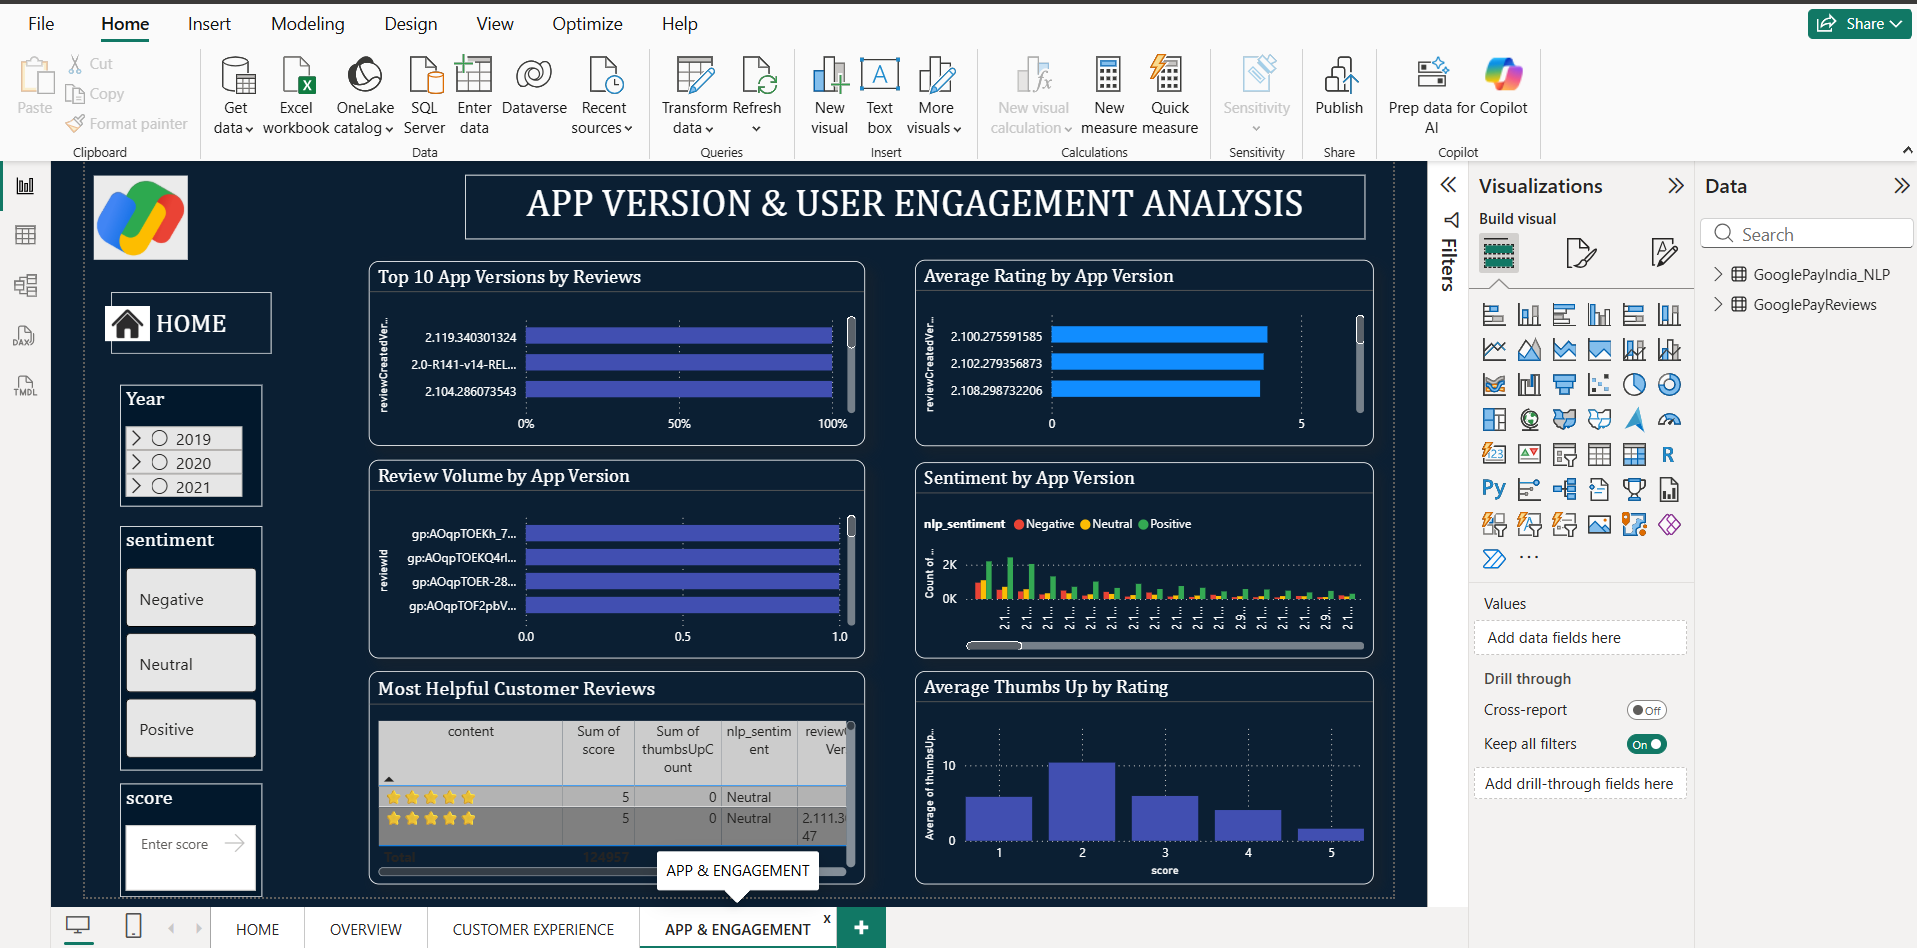

This screenshot's page, from the dashboard's own definition file:
{"tool":"powerbi","page":{"name":"APP & ENGAGEMENT","canvas":[1280,720],"ordinal":3},"visuals":[{"type":"hundredPercentStackedBarChart","title":"Top 10 App Versions by Reviews","fields":{"Y":["CountNonNull(GooglePayIndia_NLP.reviewId)"],"Category":["GooglePayIndia_NLP.reviewCreatedVersion"]},"box":[277.6,97.8,485.5,181],"z":0},{"type":"barChart","title":"Average Rating by App Version","fields":{"Category":["GooglePayIndia_NLP.reviewCreatedVersion"],"Y":["Avg(GooglePayIndia_NLP.score)"]},"box":[812,96.6,448.8,182.2],"z":1000},{"type":"clusteredColumnChart","title":"Average Thumbs Up by Rating","fields":{"Y":["Avg(GooglePayIndia_NLP.thumbsUpCount)"],"Category":["GooglePayIndia_NLP.score"]},"box":[812,498.9,448.8,209.1],"z":2000},{"type":"tableEx","title":"Most Helpful Customer Reviews","fields":{"Values":["GooglePayIndia_NLP.content","Sum(GooglePayIndia_NLP.score)","Sum(GooglePayIndia_NLP.thumbsUpCount)","GooglePayIndia_NLP.nlp_sentiment","GooglePayIndia_NLP.reviewCreatedVersion"]},"box":[277.6,498.9,485.5,209.1],"z":3000},{"type":"barChart","title":"Review Volume by App Version","fields":{"Category":["GooglePayReviews.reviewId"],"Y":["CountNonNull(GooglePayReviews.reviewCreatedVersion)"]},"box":[277.6,292.3,485.5,194.4],"z":4000},{"type":"clusteredColumnChart","title":"Sentiment by App Version","fields":{"Category":["GooglePayReviews.reviewCreatedVersion"],"Series":["GooglePayReviews.nlp_sentiment"],"Y":["CountNonNull(GooglePayReviews.reviewId)"]},"box":[812,294.7,448.8,192],"z":5000},{"type":"image","box":[8.2,13.7,91.7,84.4],"z":6000},{"type":"textbox","box":[371.7,13.5,881,63.1],"z":7000},{"type":"listSlicer","fields":{"Values":["GooglePayReviews.year_month.Variation.Date Hierarchy.Year","GooglePayReviews.year_month.Variation.Date Hierarchy.Quarter","GooglePayReviews.year_month.Variation.Date Hierarchy.Month","GooglePayReviews.year_month.Variation.Date Hierarchy.Day"]},"box":[33.8,219.2,139.4,119.1],"z":8000},{"type":"advancedSlicerVisual","fields":{"Values":["GooglePayReviews.sentiment"]},"box":[33.8,357.3,139.4,239.5],"z":9000},{"type":"textSlicer","fields":{"Values":["GooglePayReviews.score"]},"box":[33.8,609,139.4,111],"z":10000},{"type":"shape","box":[26.1,129,156.4,60.4],"z":11000},{"type":"image","box":[19.2,141.3,43.9,34.3],"z":12000}]}

Visuals, with their boxes on the page's 1280x720 design canvas (x1, y1, x2, y2). These are canvas units, not pixel positions in the 1917x948 screenshot, which may show the page scaled, cropped or inside an application window:
"Top 10 App Versions by Reviews" hundredPercentStackedBarChart: [x1=278, y1=98, x2=763, y2=279]
"Average Rating by App Version" barChart: [x1=812, y1=97, x2=1261, y2=279]
"Average Thumbs Up by Rating" clusteredColumnChart: [x1=812, y1=499, x2=1261, y2=708]
"Most Helpful Customer Reviews" tableEx: [x1=278, y1=499, x2=763, y2=708]
"Review Volume by App Version" barChart: [x1=278, y1=292, x2=763, y2=487]
"Sentiment by App Version" clusteredColumnChart: [x1=812, y1=295, x2=1261, y2=487]
image: [x1=8, y1=14, x2=100, y2=98]
textbox: [x1=372, y1=14, x2=1253, y2=77]
listSlicer - GooglePayReviews.year_month.Variation.Date Hierarchy.Year x GooglePayReviews.year_month.Variation.Date Hierarchy.Quarter: [x1=34, y1=219, x2=173, y2=338]
advancedSlicerVisual - GooglePayReviews.sentiment: [x1=34, y1=357, x2=173, y2=597]
textSlicer - GooglePayReviews.score: [x1=34, y1=609, x2=173, y2=720]
shape: [x1=26, y1=129, x2=182, y2=189]
image: [x1=19, y1=141, x2=63, y2=176]
